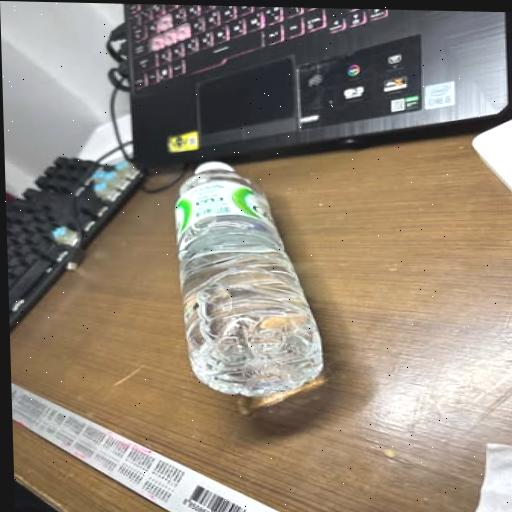bottle: (117, 148, 333, 426)
